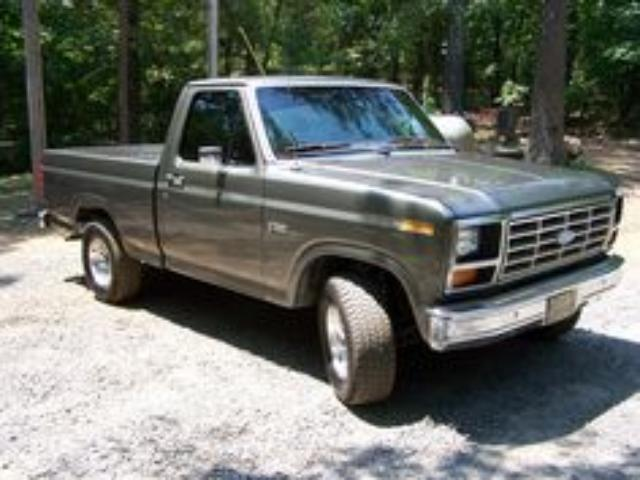pickup-truck: (35, 75, 626, 408)
